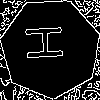H: (25, 23, 73, 62)
